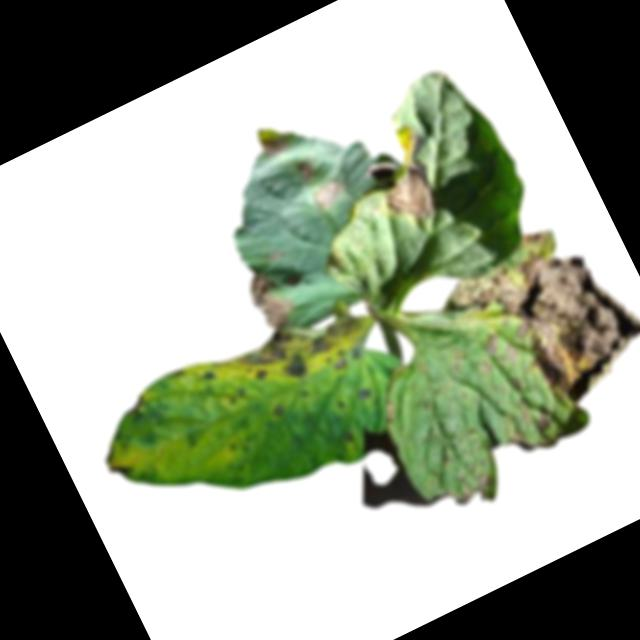Early_blight: (434, 201, 640, 436), (227, 297, 376, 413), (357, 121, 454, 235), (239, 265, 300, 334), (446, 466, 501, 514), (307, 175, 348, 215), (99, 447, 135, 488), (257, 128, 292, 163), (294, 158, 320, 185), (352, 384, 375, 408), (379, 399, 400, 425), (199, 364, 221, 387), (269, 401, 290, 423)
